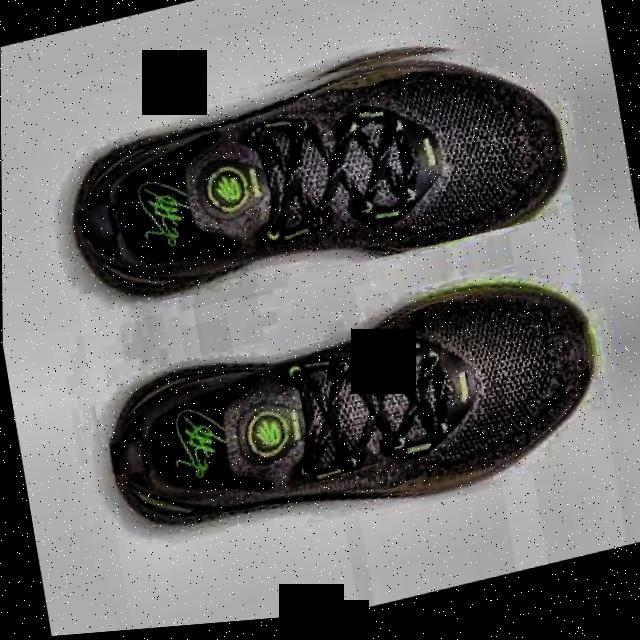shoe: (52, 19, 575, 332), (96, 264, 614, 573)
